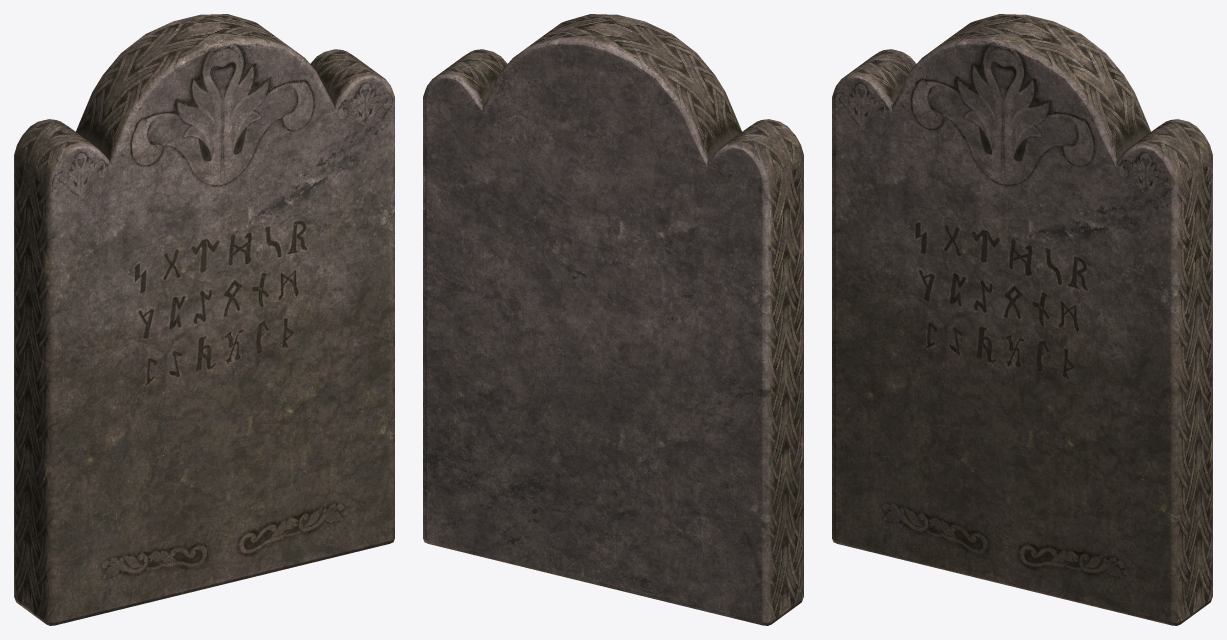
The model's file is SM_gravestone_06.fbx.
3 renders of one model, left to right at view 1: azimuth 30°, elevation 25°; view 2: azimuth 150°, elevation 25°; view 3: azimuth 330°, elevation 25°, orthographic.
Parts seen in each view (by area): view 1: SM_gravestone_06; view 2: SM_gravestone_06; view 3: SM_gravestone_06.
Boxes of the visible parts, <box> form: SM_gravestone_06: <box>14,14,394,625</box>; SM_gravestone_06: <box>423,14,803,625</box>; SM_gravestone_06: <box>832,14,1212,625</box>.
Bounding box in the file's own units: 50.5 × 75.24 × 9.42.
